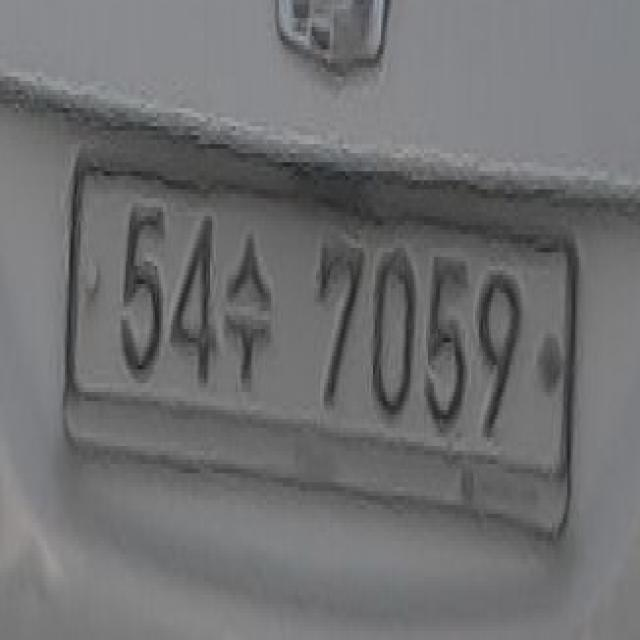0: (369, 230, 424, 446)
4: (167, 189, 222, 397)
5: (114, 194, 169, 383), (426, 225, 467, 442)
7: (312, 203, 363, 419)
9: (471, 275, 530, 451)
license_plate: (63, 154, 579, 564)
su: (222, 221, 275, 383)
